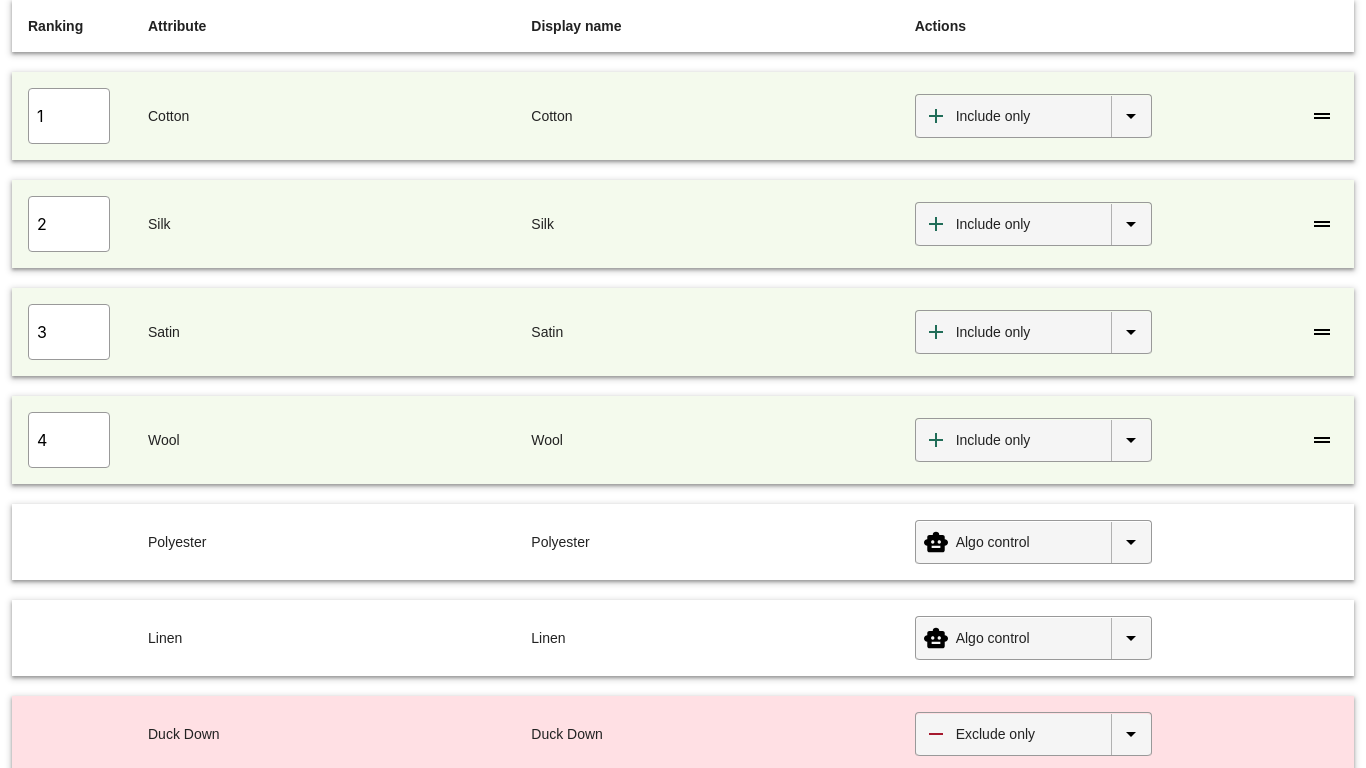
SearchAndCategoryFacetAttributesList › Re-order by number › should keep the existing order if the user deletes, then clicks outside without inputting a new order
The width and height of the screenshot is (1366, 768).
Clear the number field named "Order for Satin" at (69, 332), box [28, 304, 110, 360]
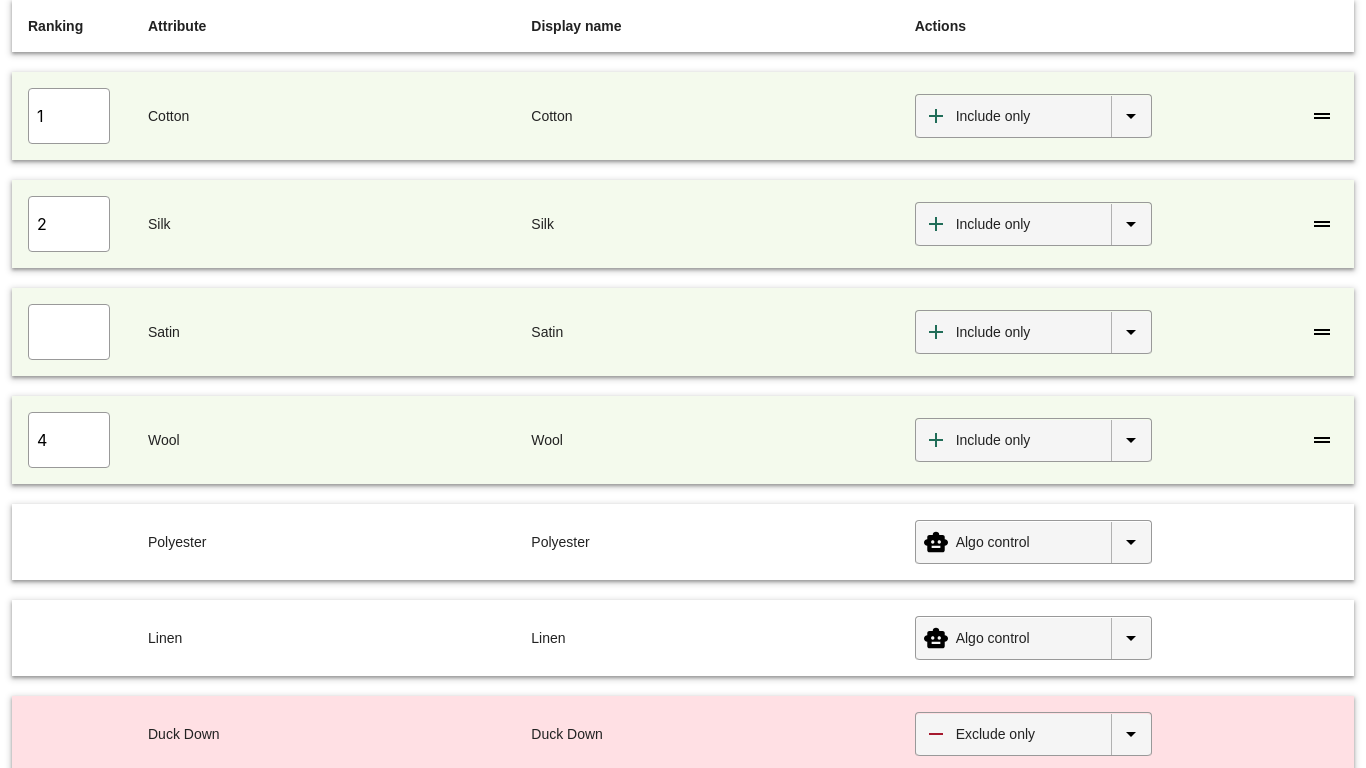
Clear the number field named "Order for Satin" at (69, 332), box [28, 304, 110, 360]
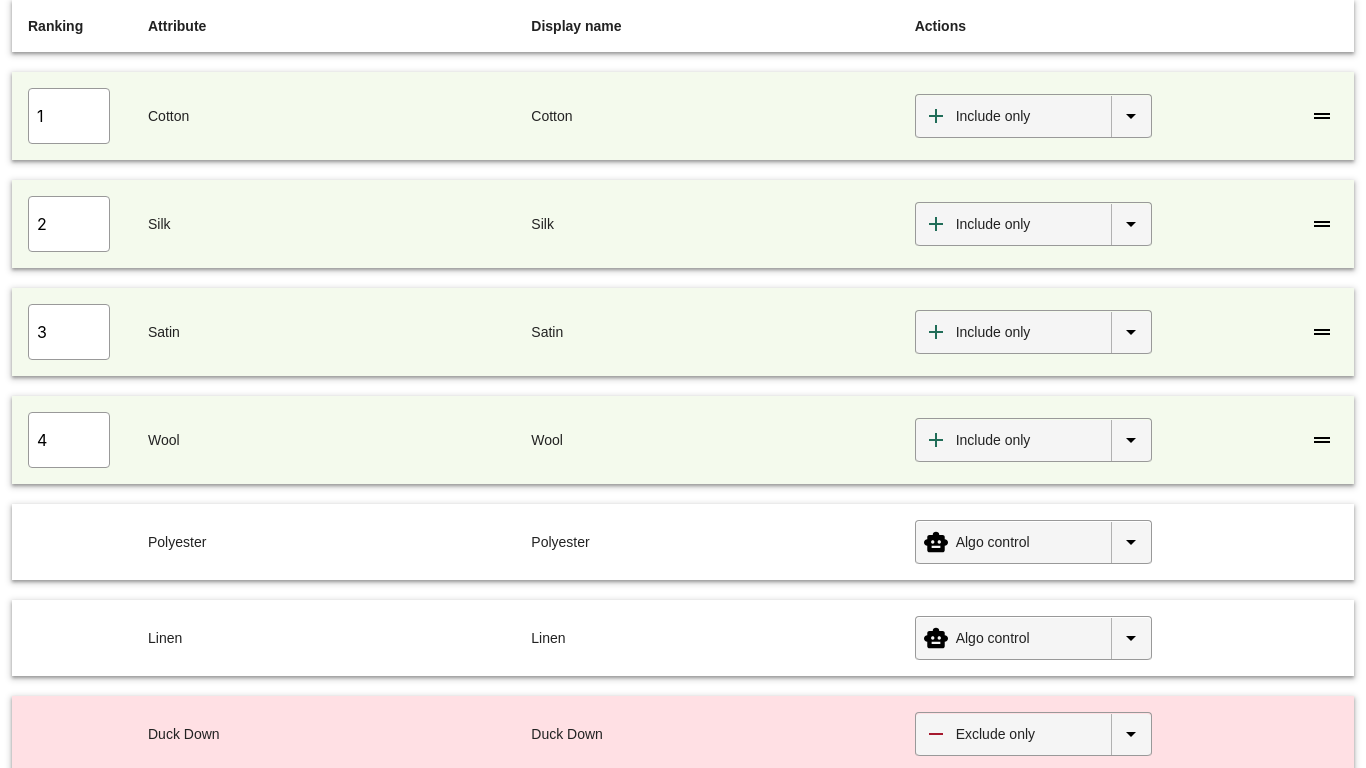
Now the number field named "Order for Satin" holds "3", box [28, 304, 110, 360]
